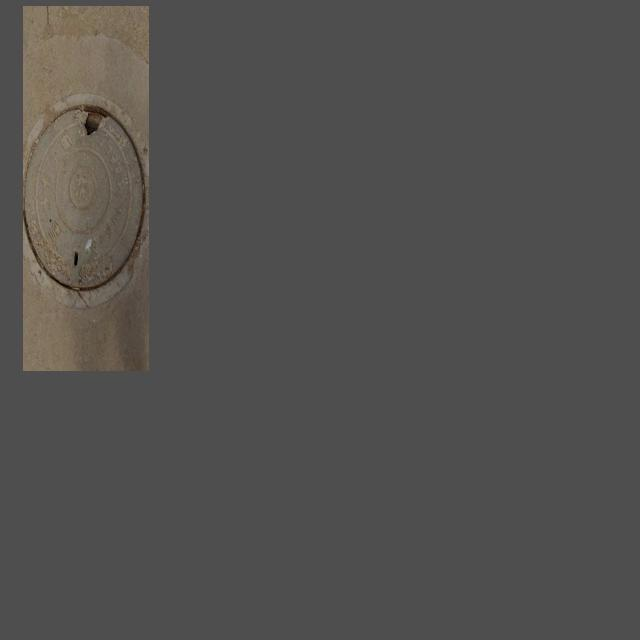broke: (24, 87, 148, 306)
